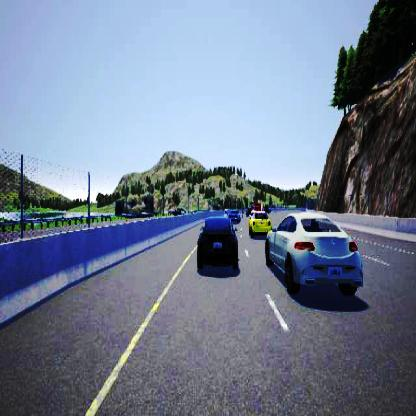vehicle: (265, 203, 362, 297), (196, 209, 240, 269), (249, 209, 272, 238)
